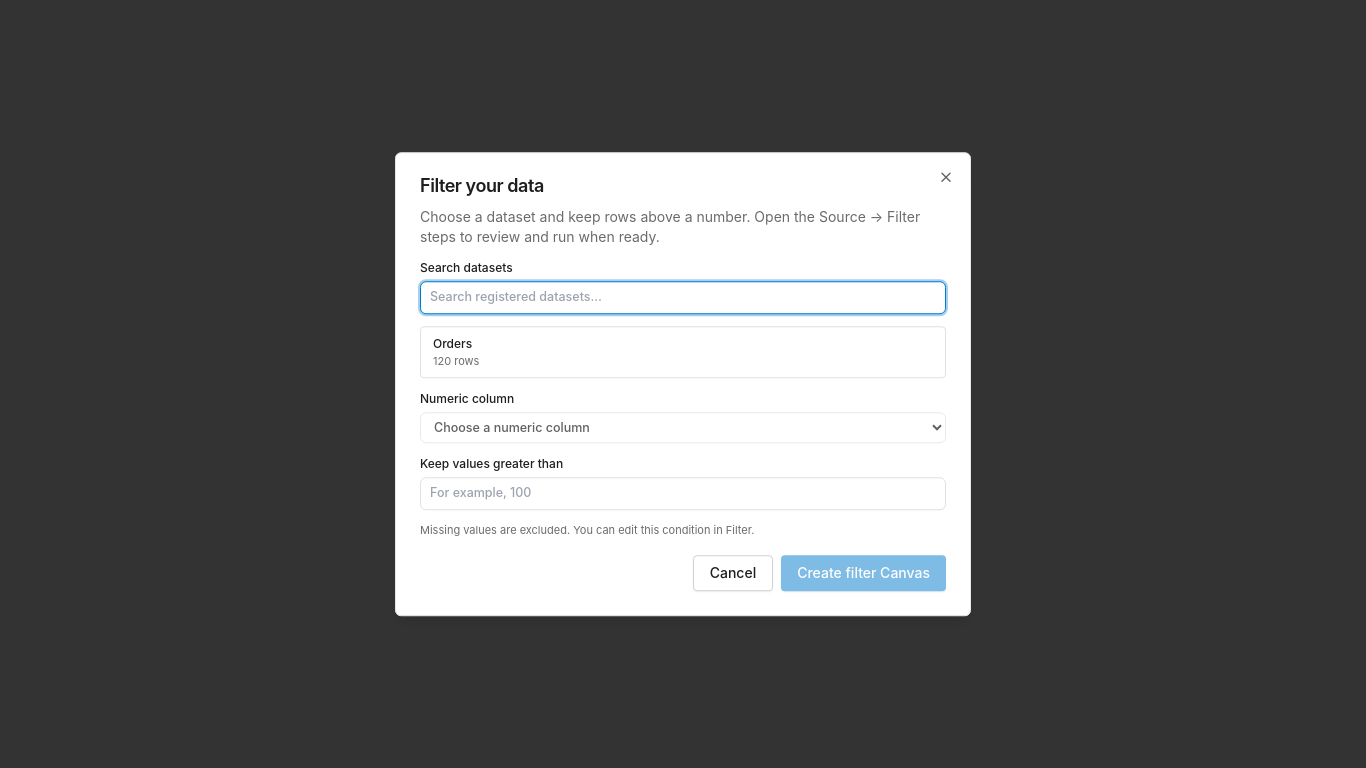
it: OwnDataStarterModal › explains an unusable schema and blocks creation
The image size is (1366, 768).
Click the button with aria-label "Choose starter dataset Orders" at (453, 344), box [421, 327, 945, 378]
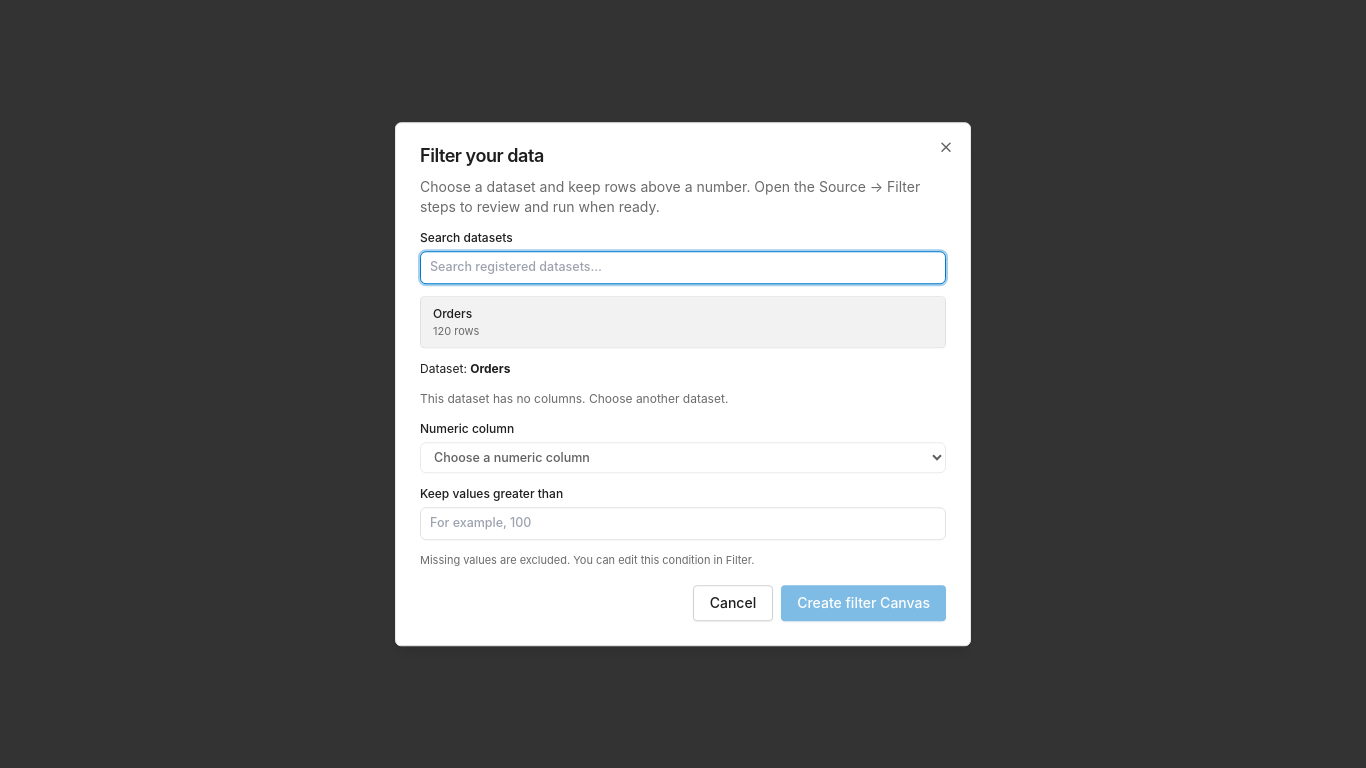
Expected: the dropdown named "Starter numeric column" is disabled, [420, 442, 946, 474]
Now the text "This dataset has no columns." is shown, box [420, 392, 728, 406]
